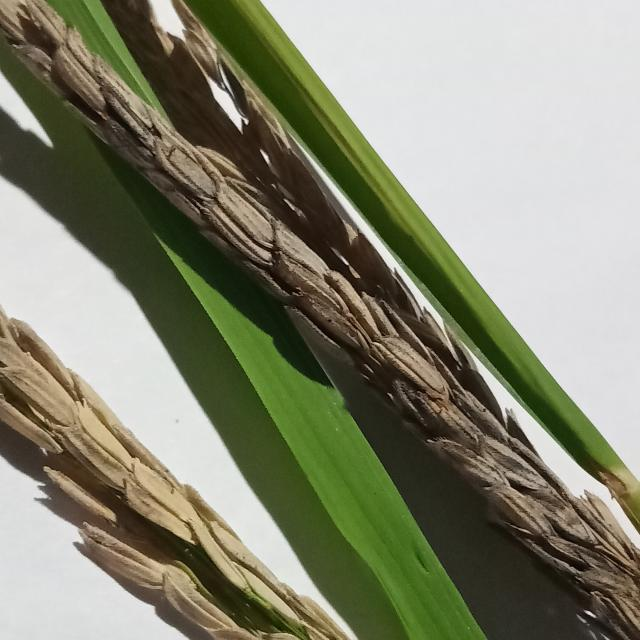Neck_Blast: (0, 8, 640, 636), (0, 300, 346, 640)
